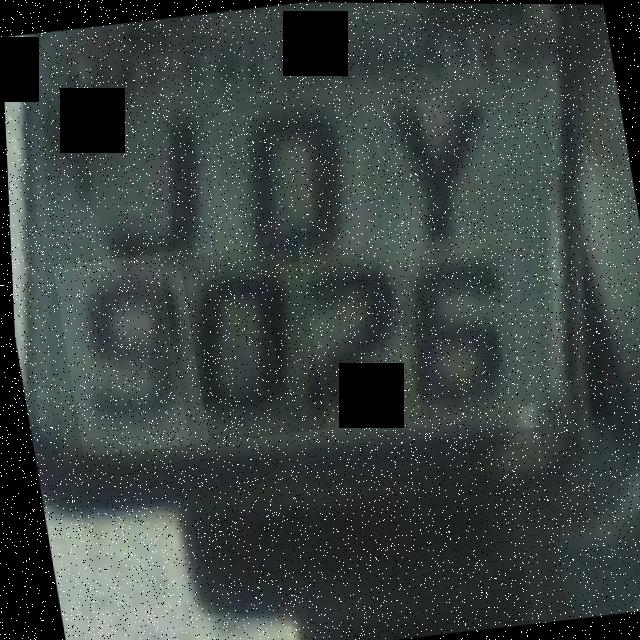0: (155, 240, 324, 445)
2: (256, 239, 431, 433)
6: (368, 227, 545, 440)
9: (49, 249, 206, 457)
J: (60, 89, 224, 290)
Y: (356, 60, 517, 261)
